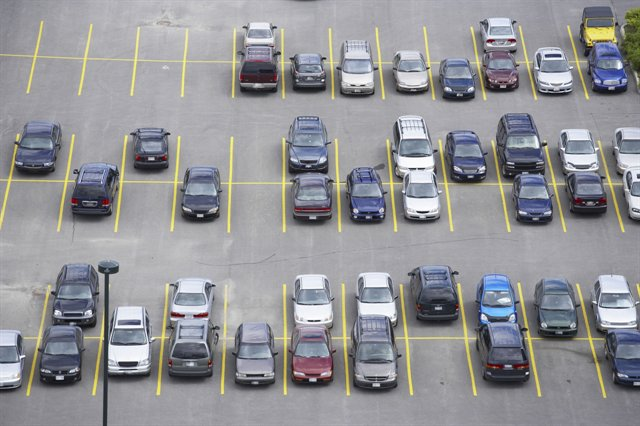car: (353, 314, 398, 387), (109, 306, 153, 374), (233, 322, 279, 387), (343, 166, 391, 227), (480, 322, 526, 385), (389, 123, 442, 174), (498, 121, 551, 170), (59, 261, 97, 328), (533, 279, 581, 332), (589, 274, 635, 328), (414, 264, 458, 320), (402, 174, 450, 225), (181, 169, 225, 223), (474, 278, 524, 325), (338, 40, 381, 94), (291, 327, 333, 382), (509, 174, 556, 223), (75, 162, 116, 217), (354, 271, 400, 319), (288, 120, 331, 171), (175, 320, 214, 376), (585, 43, 631, 90), (287, 176, 338, 218), (46, 326, 81, 387), (561, 175, 620, 211), (531, 55, 582, 96), (17, 120, 56, 173), (289, 278, 332, 325), (445, 136, 489, 178), (607, 331, 640, 386), (171, 280, 214, 322), (554, 129, 599, 169), (1, 327, 26, 395), (130, 130, 173, 168), (479, 55, 524, 90), (440, 59, 477, 100), (239, 50, 279, 87), (477, 18, 519, 52), (579, 13, 622, 45), (292, 53, 328, 88), (391, 52, 426, 88), (613, 130, 640, 171), (621, 168, 638, 227), (246, 24, 274, 48)
